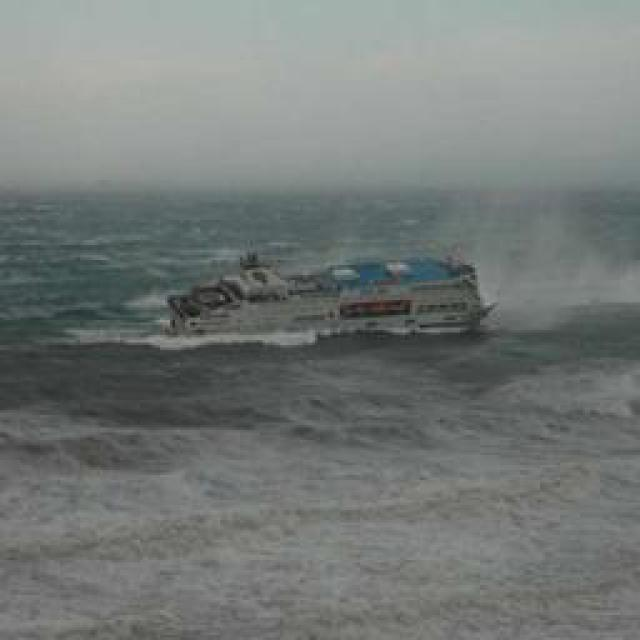Ship: (171, 254, 491, 344)
